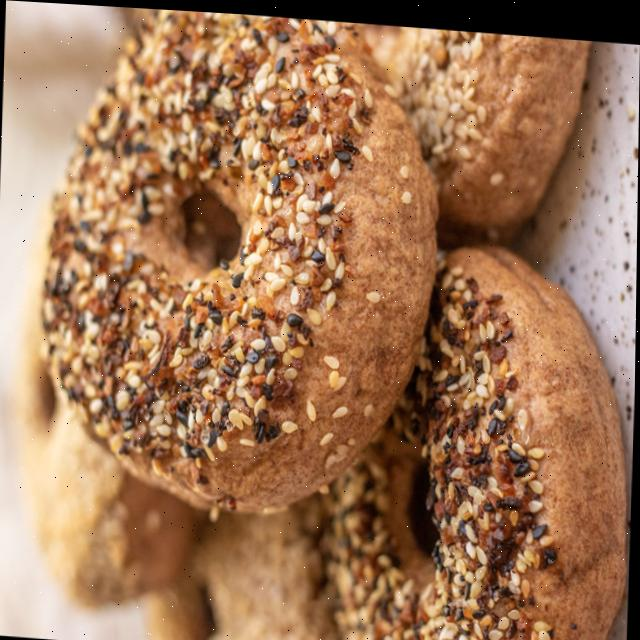Bagel: (43, 9, 437, 508), (328, 240, 626, 640), (15, 209, 205, 607), (365, 20, 588, 239)
